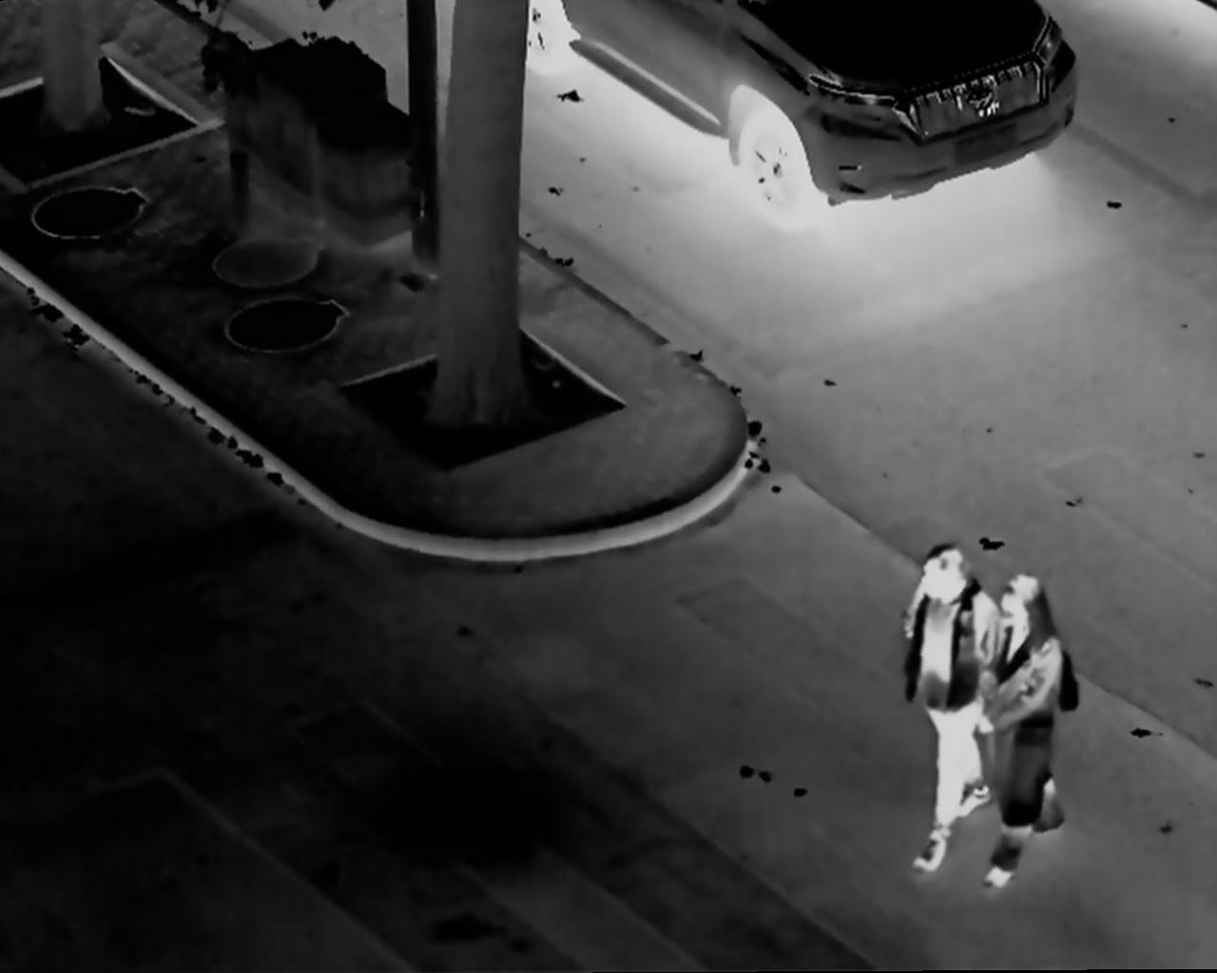person: (901, 545, 1002, 878), (995, 578, 1088, 899)
